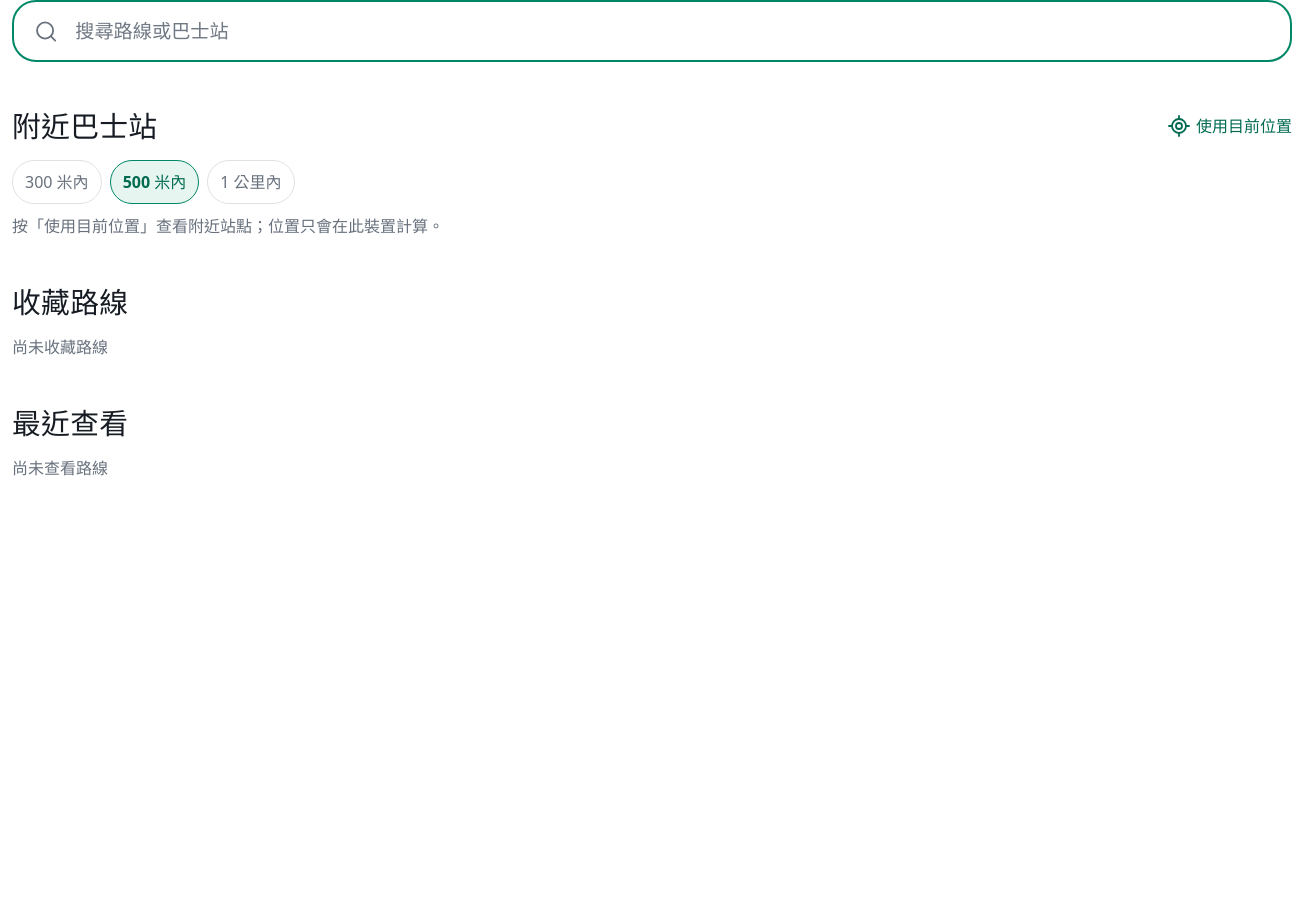
Test: HomePage › requests local location only after the nearby action and renders sorted stops
This screenshot has width=1304, height=900.
Click the button "使用目前位置" at [1230, 126], box x1=1167 y1=104 x2=1292 y2=148
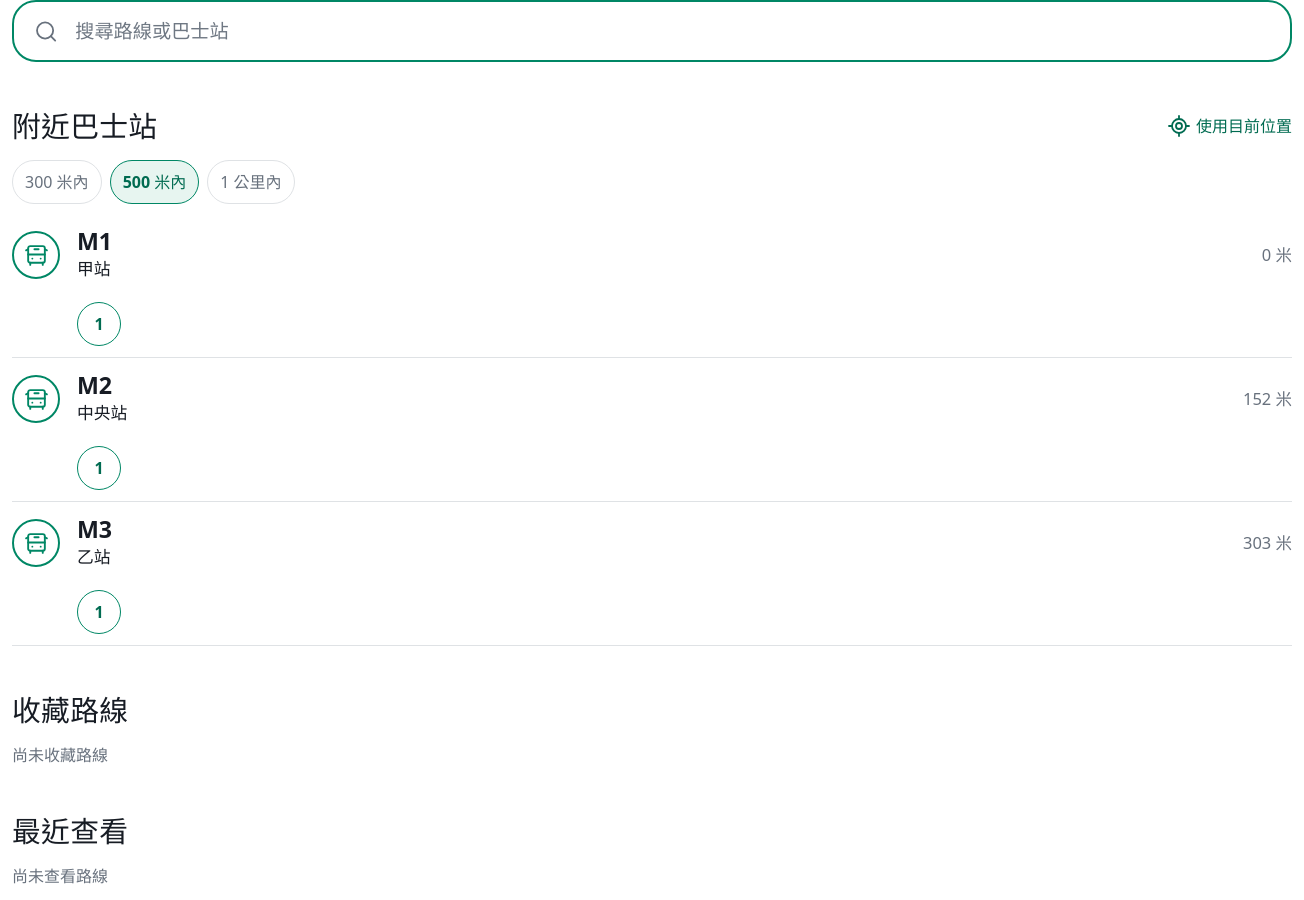
Check: the heading "附近巴士站" is shown, box x1=12 y1=104 x2=157 y2=148
Check: the text "甲站" is shown, box x1=77 y1=257 x2=111 y2=280
